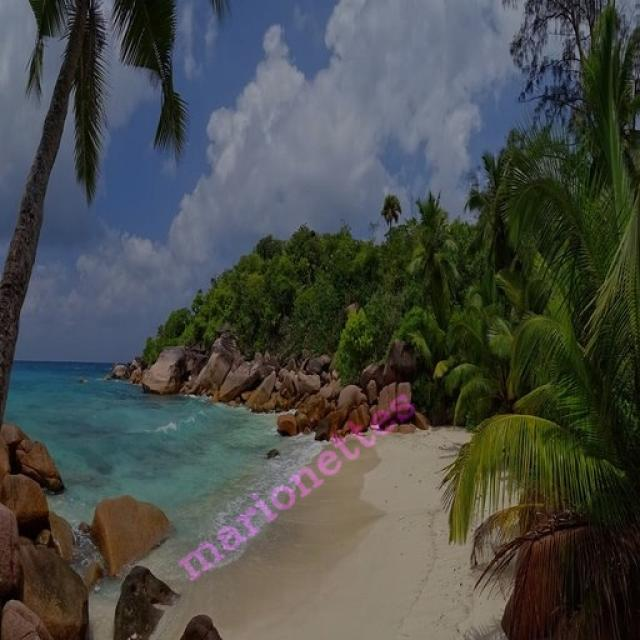watermark: (179, 376, 417, 588)
